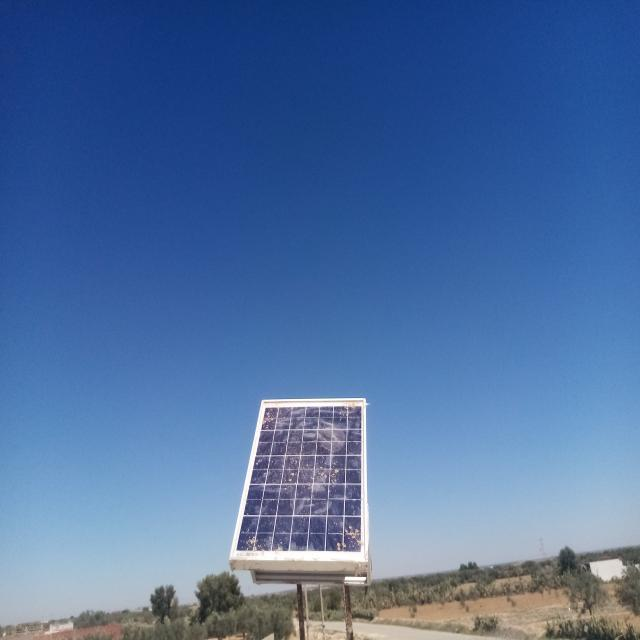faulty: (229, 398, 368, 561)
